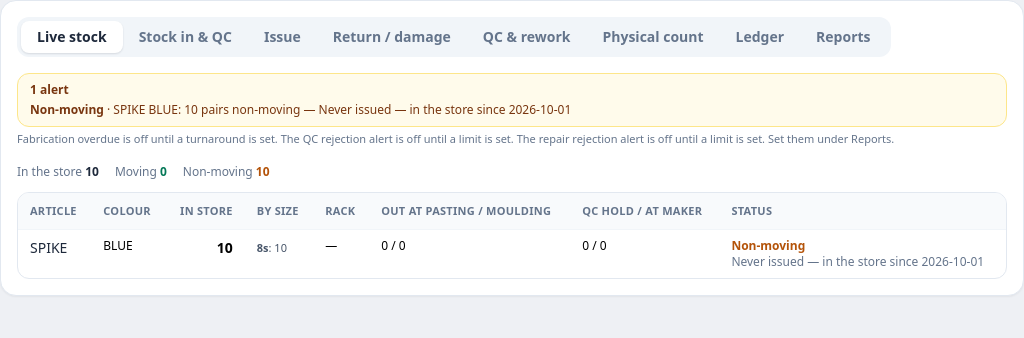
Test case: blocks an issue above what the store holds
Expected: the text "SPIKE" is shown, [18,229,91,278]
Click the tab "Issue". click: click(282, 37)
box: [248,21,317,53]
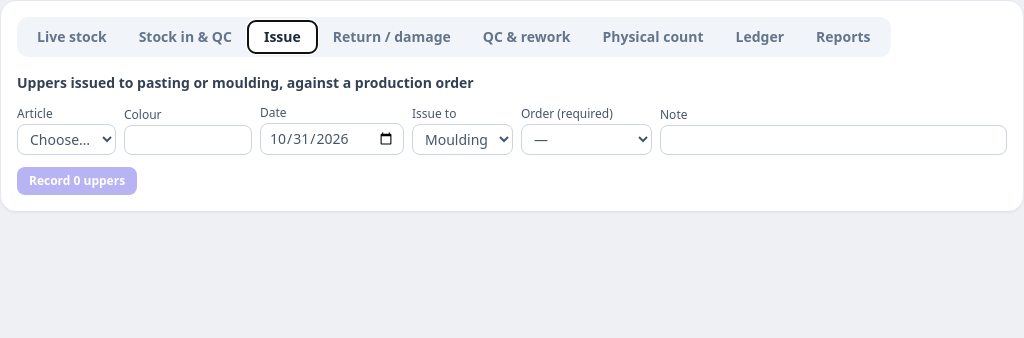
Select "SPIKE" in the dropdown labelled "Article". click: (66, 140)
box: [17,124,116,155]
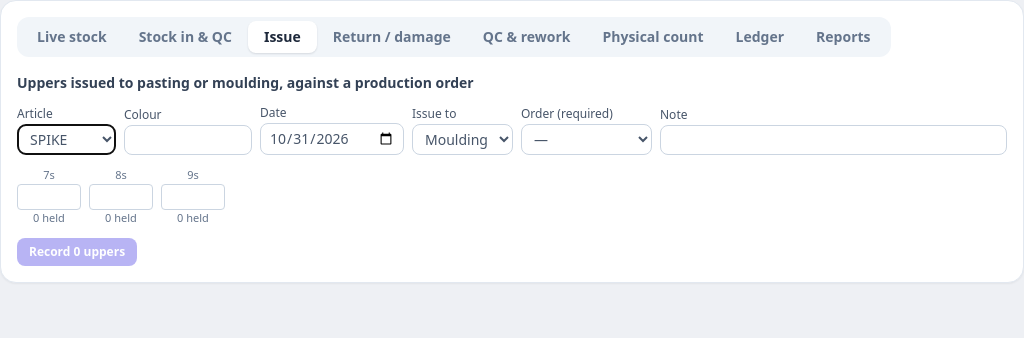
Type "BLUE" into the field labelled "Colour". click: (188, 140)
box: [124,125,252,155]
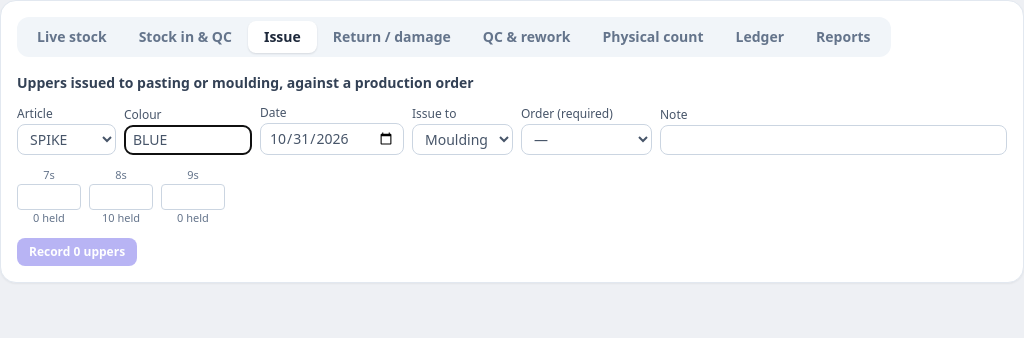
Select "JO1 · Belgaum" in the dropdown labelled "Order". click: (586, 140)
box: [521,124,652,155]
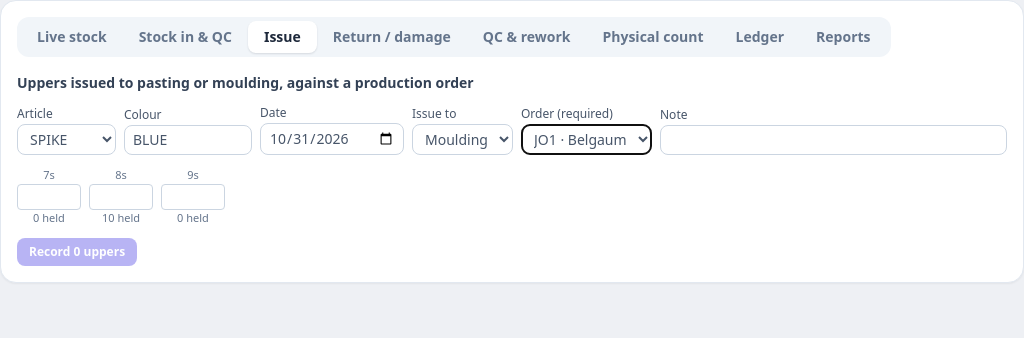
Type "12" into the number field named "Uppers of size 8s". click: (121, 196)
box: [89,184,153,210]
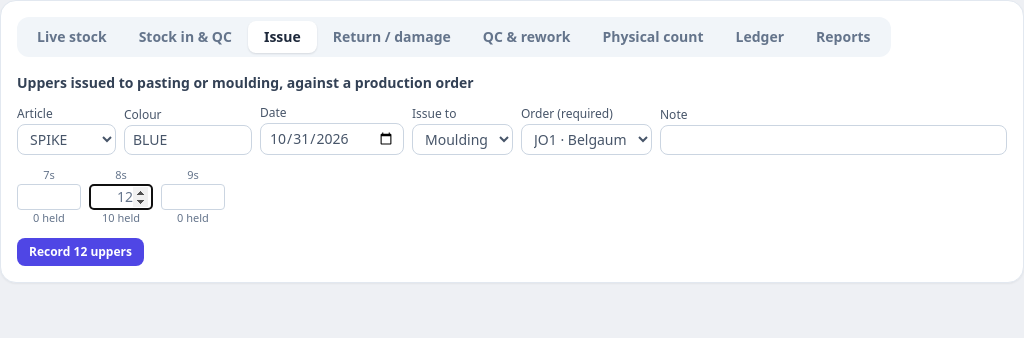
Click the button "Record 12 uppers". click: click(80, 252)
box: [17,238,144,266]
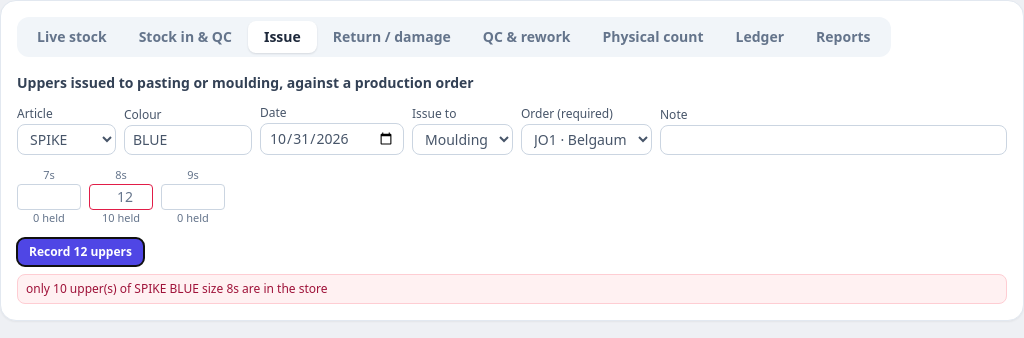
Result: the message shows "only 10 upper" at [26,280,328,297]
